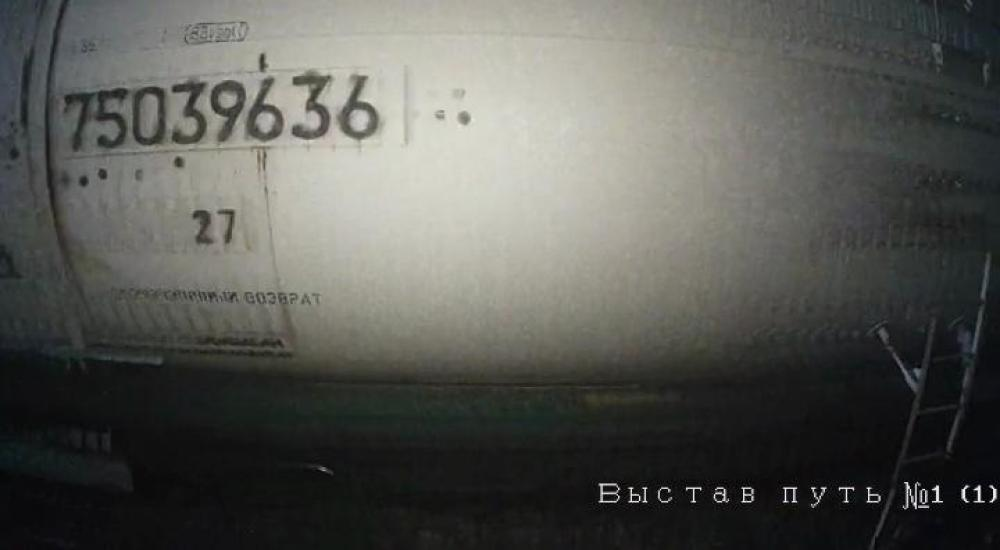Wagon-number: (60, 69, 383, 158)
